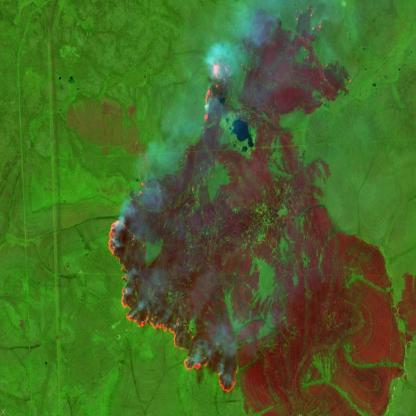fire: (104, 214, 240, 401), (196, 50, 230, 131)
